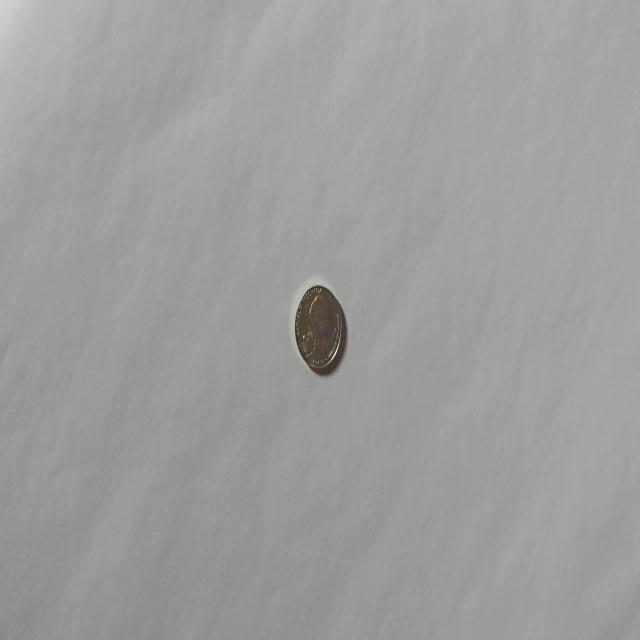seratus rupiah: (294, 283, 342, 373)
